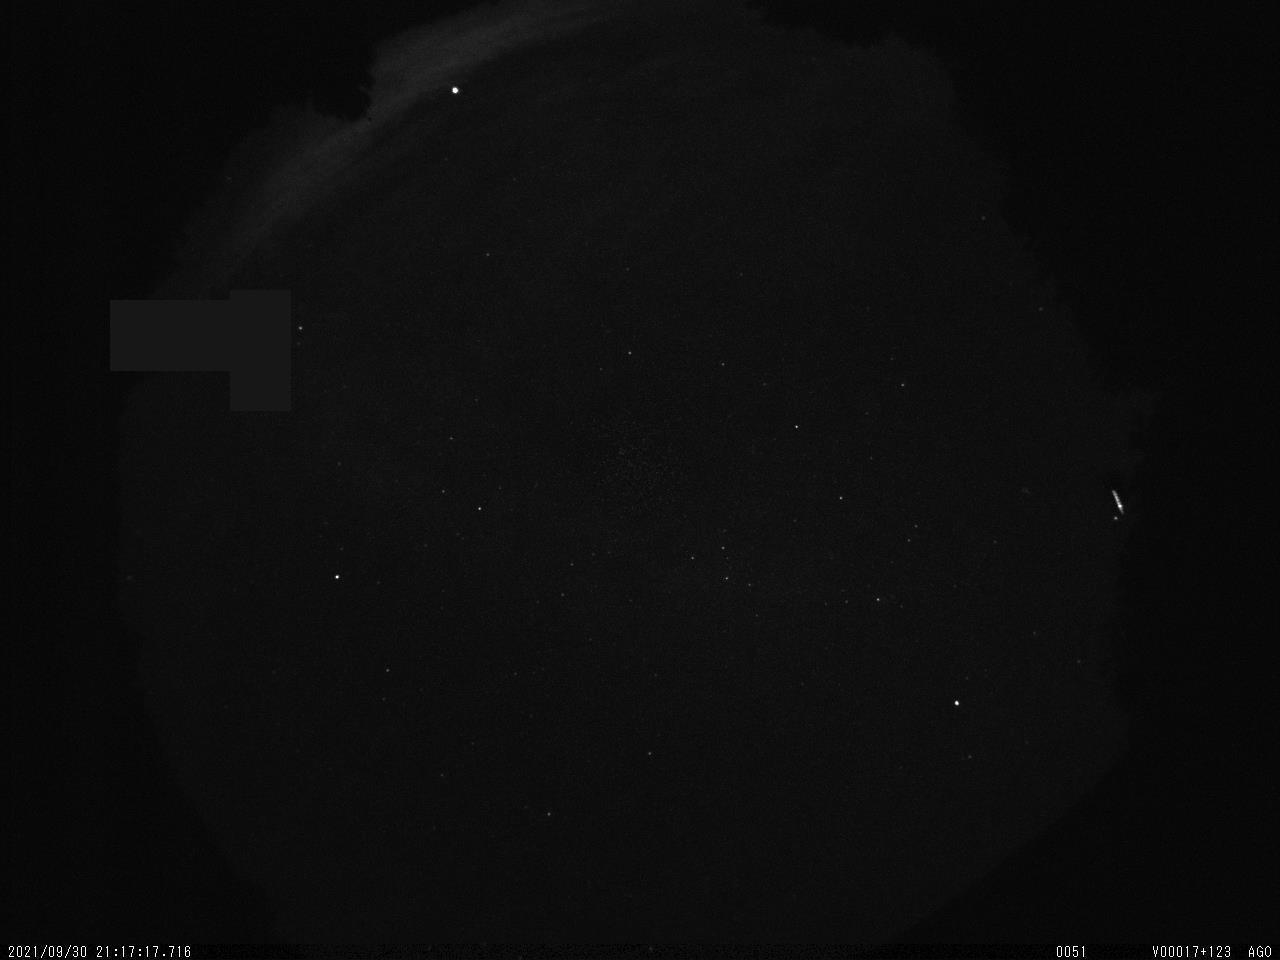Meteor: (1109, 485, 1126, 514)
